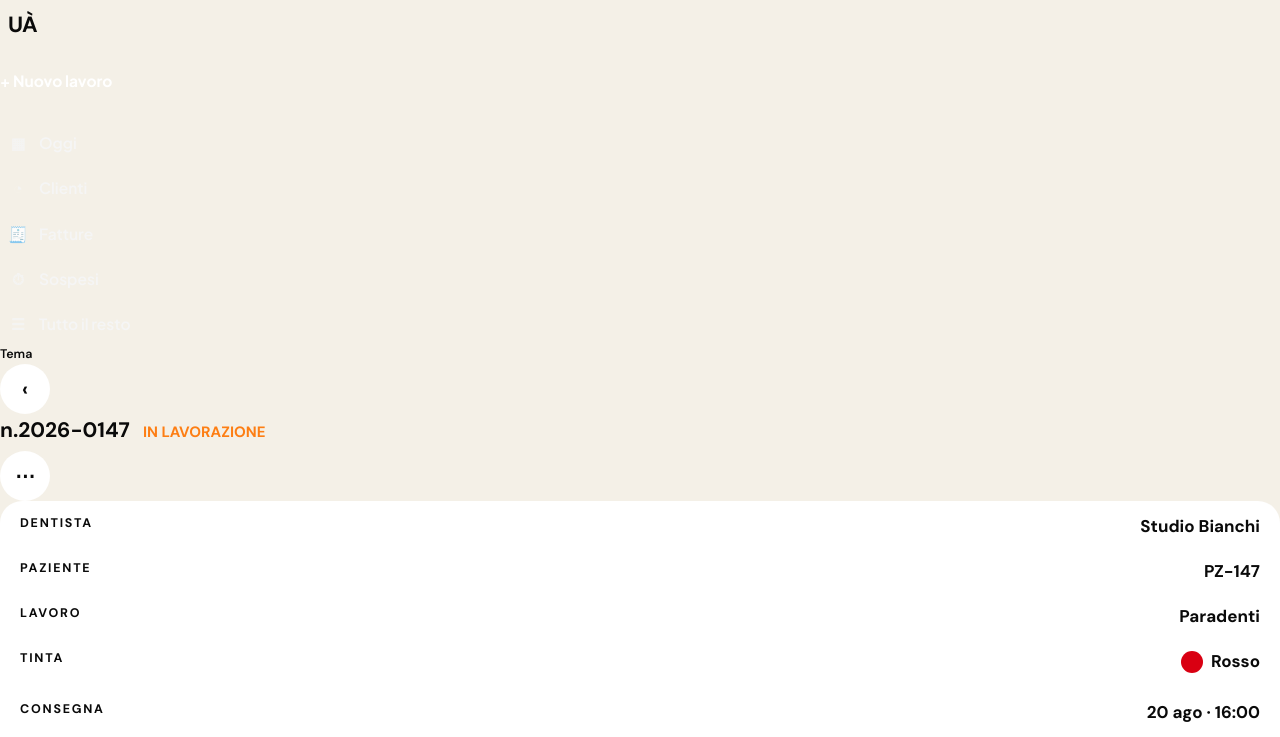
Test: La riga «Tinta» nella scheda (D247 · D253) › premendola si apre il foglietto SULLA SCHEDA, con la tavolozza
Click the button with aria-label "Modifica tinta".
click(42, 658)  # box [20,640,1260,689]
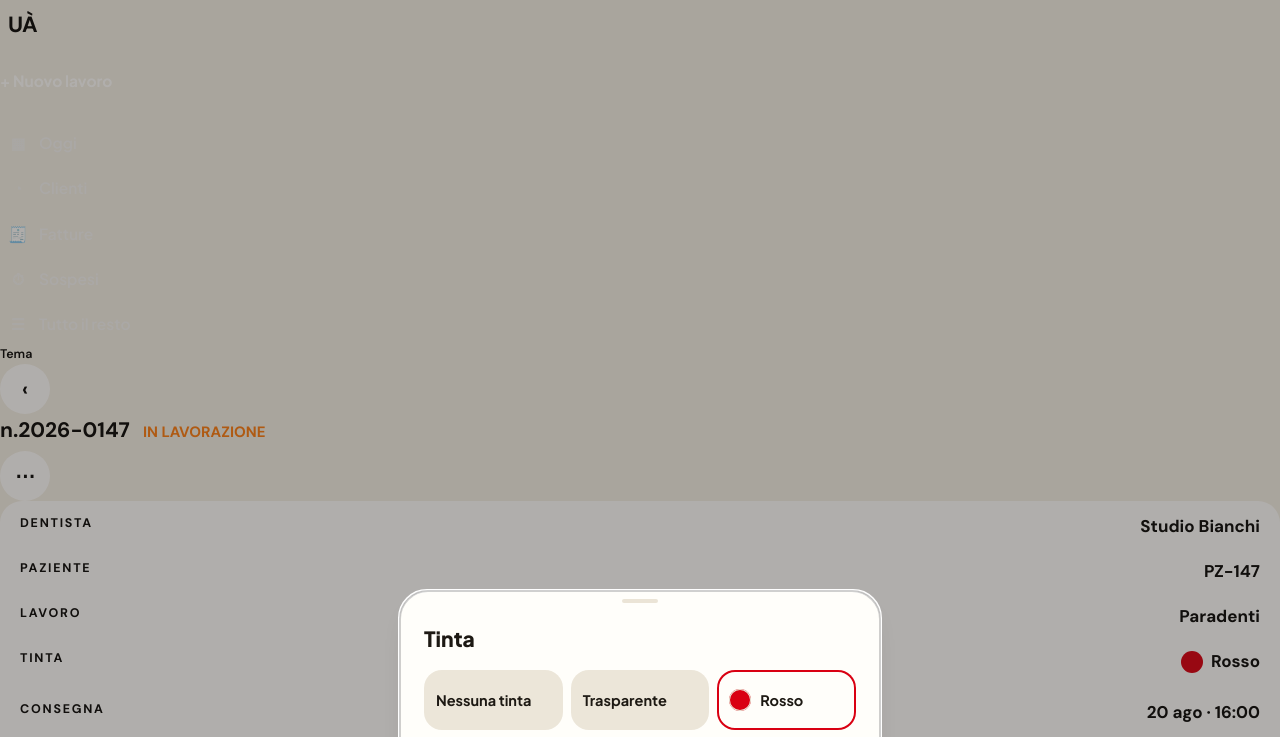
Result: the button "Nessuna tinta" is shown at [424,670,563,730]
Result: the button "Trasparente" is shown at [571,670,709,730]
